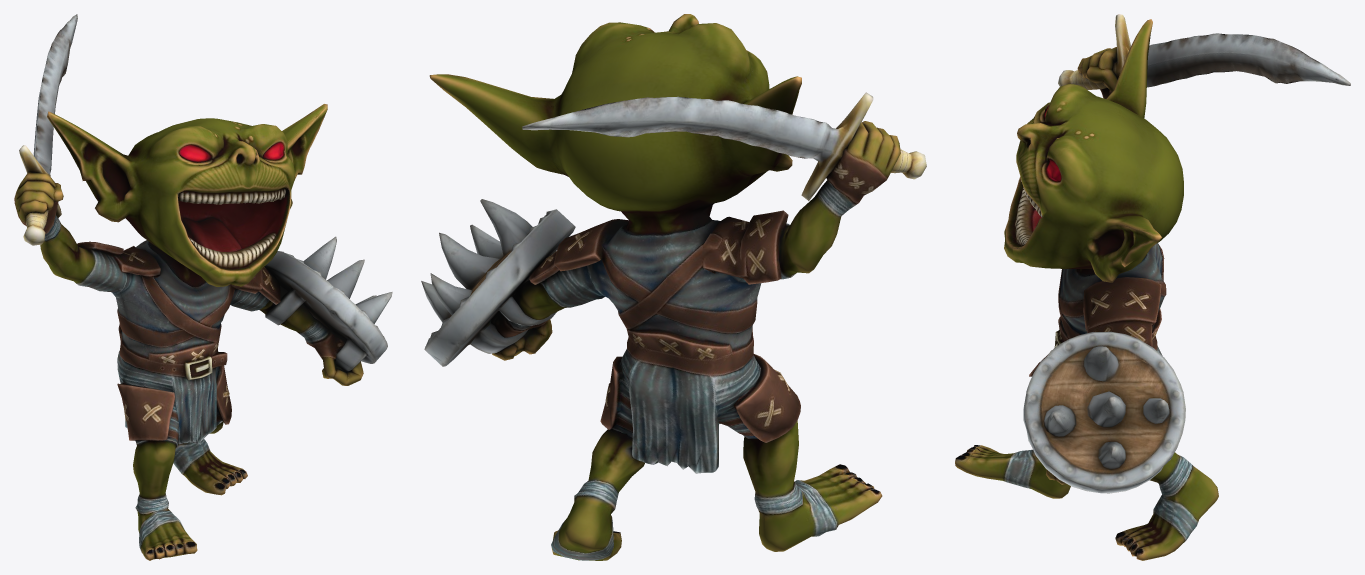
File: MZ4250 - Goblin (Green).glb
3 renders of one model, left to right at view 1: azimuth 30°, elevation 25°; view 2: azimuth 150°, elevation 25°; view 3: azimuth 270°, elevation 25°, orthographic. The views are drawn at different scales.
Parts seen in each view (by area): view 1: gob_low.001, shield_low.001, blade_low.001; view 2: gob_low.001, shield_low.001, blade_low.001; view 3: gob_low.001, shield_low.001, blade_low.001.
Part boxes in pixels (x1,y1,x2,y2): gob_low.001: [14, 104, 363, 560]; shield_low.001: [264, 236, 392, 371]; blade_low.001: [19, 14, 77, 245]; gob_low.001: [429, 14, 900, 560]; shield_low.001: [421, 199, 575, 366]; blade_low.001: [522, 92, 926, 200]; gob_low.001: [955, 19, 1218, 560]; shield_low.001: [1023, 331, 1185, 493]; blade_low.001: [1058, 14, 1350, 89].
Bounding box in the file's own units: 5.61 × 6.12 × 4.8.
1 material, 1 textured.
